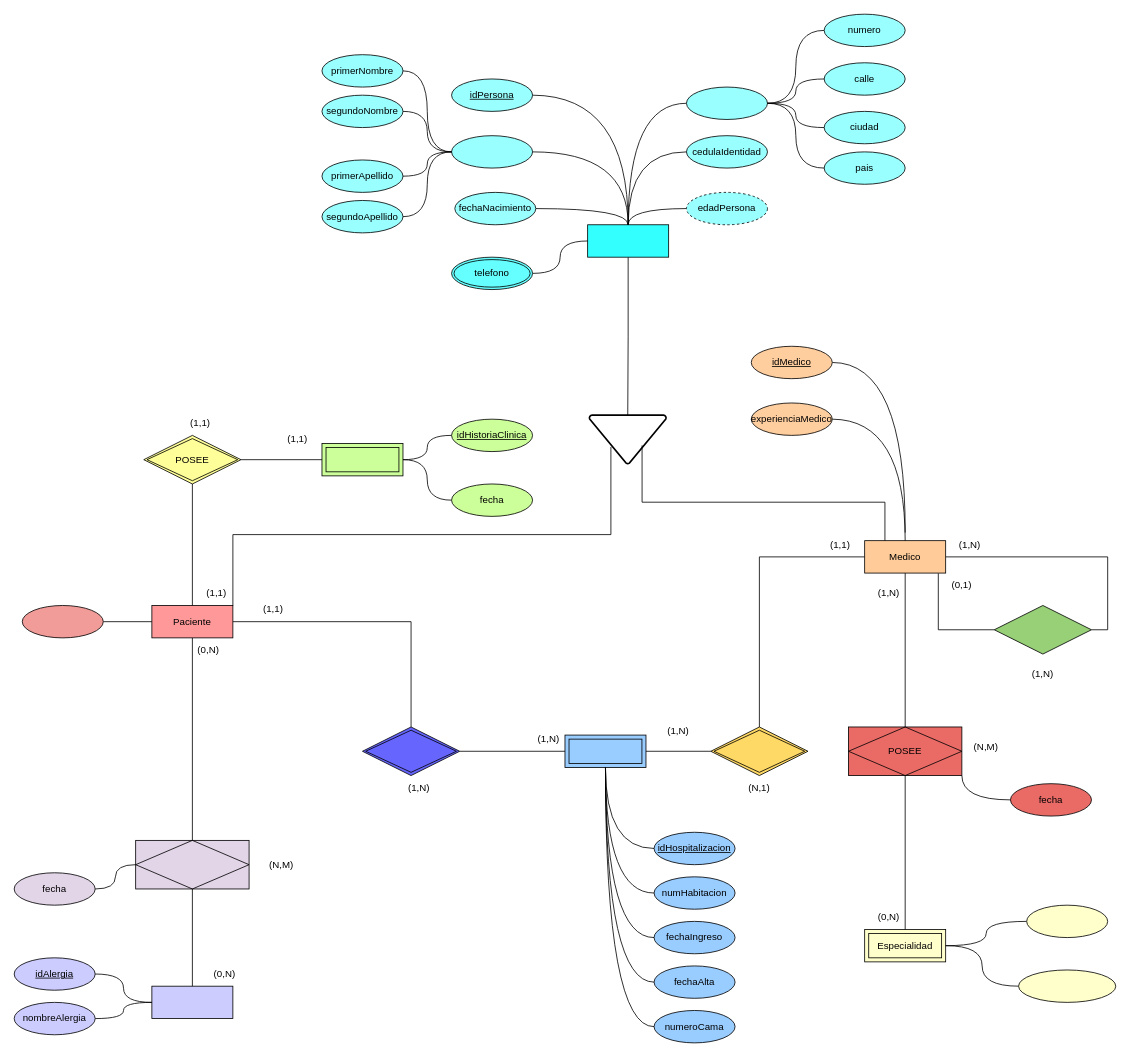
Some shapes in this 1130 by 1057 pixel diagram are drawn without their labels. Each missing label, with the centre of its shape:
AlergiaCatalogo: (x=192, y=1002)
ATIENDE: (x=759, y=751)
direccion: (x=726, y=102)
HistoriaClinica: (x=362, y=459)
Hospitalizacion: (x=605, y=750)
idEspecialidad: (x=1067, y=921)
idPaciente: (x=62, y=621)
ISA: (x=627, y=439)
nombreEspecialidad: (x=1067, y=985)
nombrePaciente: (x=492, y=151)
Persona: (x=628, y=240)
PRESENTA: (x=192, y=864)
REALIZA: (x=411, y=751)
SUPERVISA: (x=1042, y=629)
